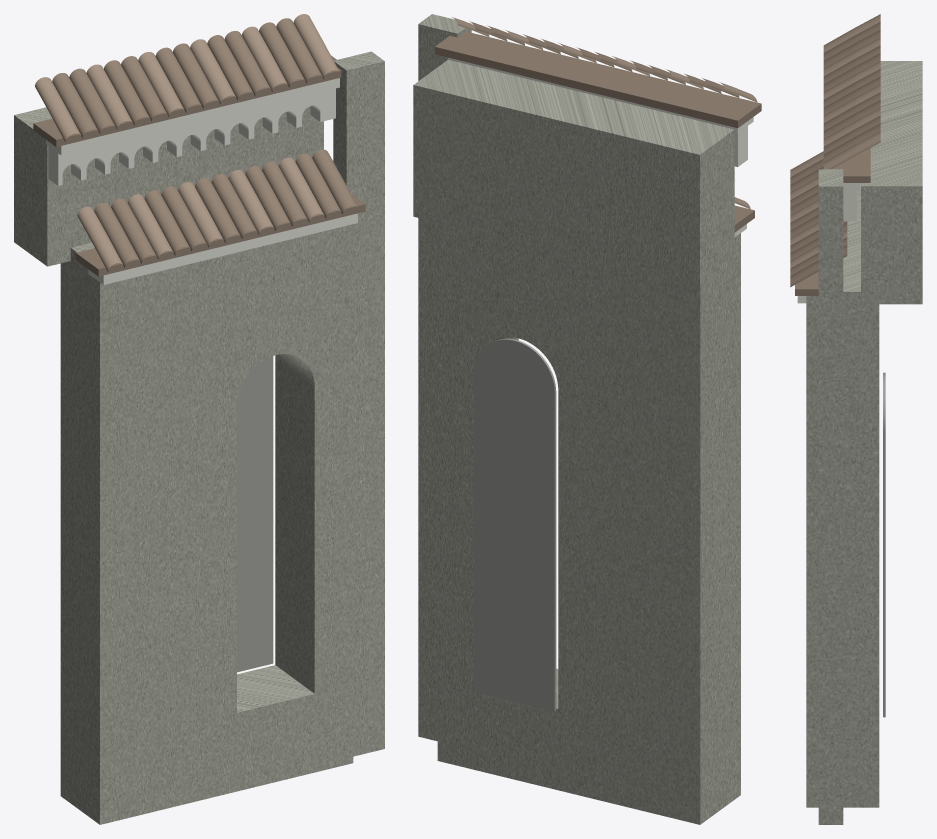
File: xinzha-1340-no21-arched-recess-near.glb
3 renders of one model, left to right at view 1: azimuth 30°, elevation 25°; view 2: azimuth 150°, elevation 25°; view 3: azimuth 270°, elevation 25°, orthographic. The views are drawn at different scales.
Visible parts, largest first — view 1: 新闸路1340弄21号圆头深窗洞与重檐; view 2: 新闸路1340弄21号圆头深窗洞与重檐; view 3: 新闸路1340弄21号圆头深窗洞与重檐.
Part boxes in pixels (left/top/right/bottom): 新闸路1340弄21号圆头深窗洞与重檐: left=14, top=14, right=384, bottom=824; 新闸路1340弄21号圆头深窗洞与重檐: left=413, top=14, right=761, bottom=824; 新闸路1340弄21号圆头深窗洞与重檐: left=790, top=14, right=922, bottom=824.
Bounding box in the file's own units: 2.8 × 5.97 × 1.07.
5 materials, 1 textured.
